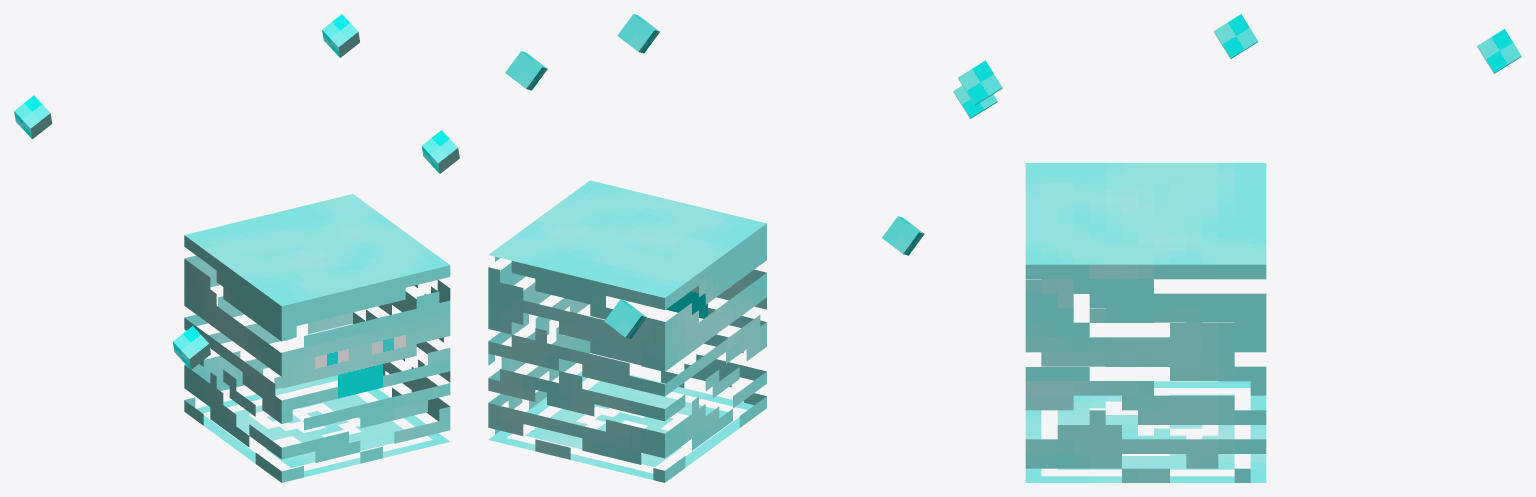
The model's file is wind.glb.
3 renders of one model, left to right at view 1: azimuth 30°, elevation 25°; view 2: azimuth 150°, elevation 25°; view 3: azimuth 270°, elevation 25°, orthographic. The views are drawn at different scales.
Parts seen in each view (by area): view 1: bb_main_0, bb_main_2, bb_main_3, bb_main_4, bb_main_1; view 2: bb_main_0, bb_main_3, bb_main_4, bb_main_1, bb_main_2; view 3: bb_main_0, bb_main_1, bb_main_2, bb_main_4, bb_main_3.
Boxes of the visible parts, left/top/right/bottom form: bb_main_0: left=184, top=194, right=450, bottom=482; bb_main_2: left=14, top=95, right=52, bottom=139; bb_main_3: left=173, top=326, right=210, bottom=369; bb_main_4: left=322, top=14, right=359, bottom=57; bb_main_1: left=421, top=130, right=459, bottom=173; bb_main_0: left=488, top=180, right=766, bottom=482; bb_main_3: left=882, top=216, right=924, bottom=255; bb_main_4: left=505, top=51, right=547, bottom=90; bb_main_1: left=617, top=14, right=659, bottom=53; bb_main_2: left=604, top=299, right=646, bottom=338; bb_main_0: left=1025, top=163, right=1266, bottom=482; bb_main_1: left=958, top=60, right=1002, bottom=105; bb_main_2: left=1477, top=29, right=1521, bottom=73; bb_main_4: left=1214, top=14, right=1258, bottom=58; bb_main_3: left=953, top=85, right=997, bottom=118.
Size of the model in its own units: 1.64 by 1.96 by 2.21.
1 material, 1 textured.
